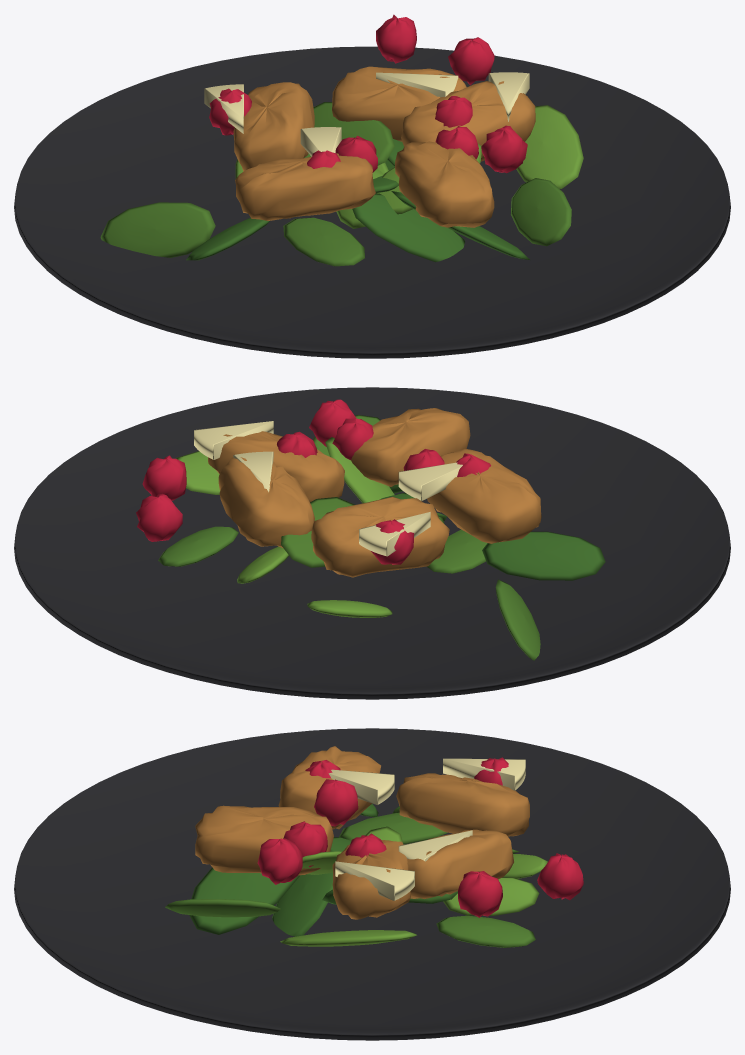
Rendered from salada-morna-frutas-vermelhas.glb.
3 views of the same model, one above another, from view 1: azimuth 30°, elevation 25°; view 2: azimuth 150°, elevation 25°; view 3: azimuth 270°, elevation 25° (orthographic).
Visible parts, largest first — view 1: salada-morna-frutas-vermelhas; view 2: salada-morna-frutas-vermelhas; view 3: salada-morna-frutas-vermelhas.
Boxes of the visible parts, x1=… form: salada-morna-frutas-vermelhas: x1=14, y1=14, x2=730, y2=358; salada-morna-frutas-vermelhas: x1=14, y1=387, x2=730, y2=699; salada-morna-frutas-vermelhas: x1=14, y1=728, x2=730, y2=1040.
Size of the model in its own units: 0.26 by 0.0591 by 0.26.
